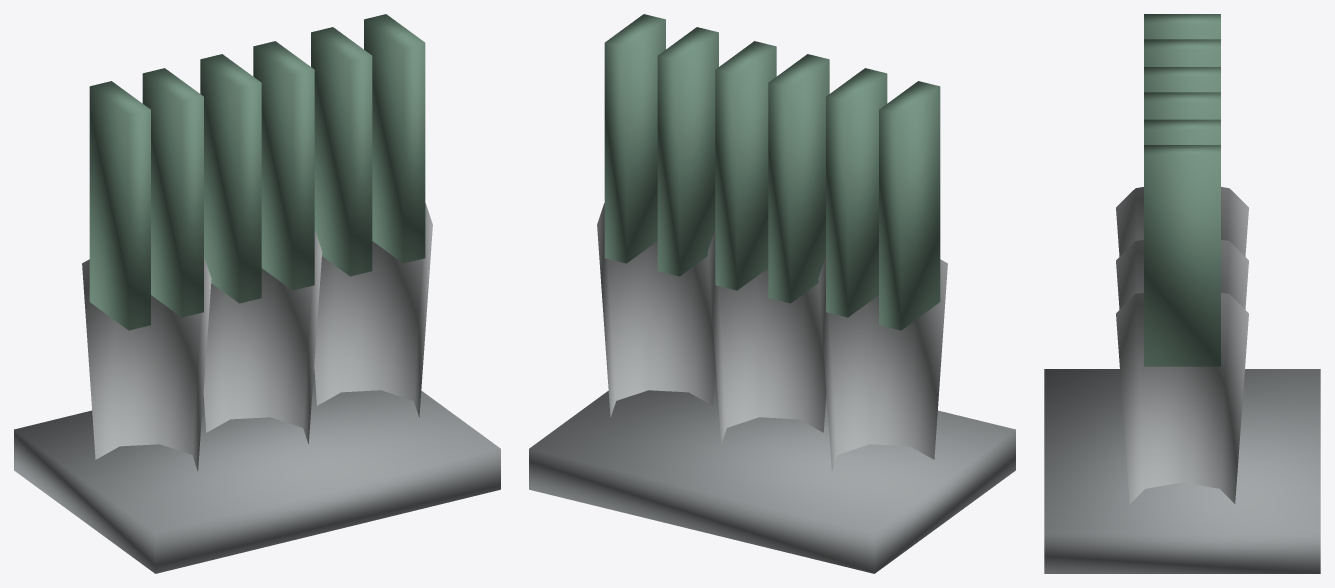
File: standing_floral_display__compact.glb
3 renders of one model, left to right at view 1: azimuth 30°, elevation 25°; view 2: azimuth 150°, elevation 25°; view 3: azimuth 270°, elevation 25°, orthographic. The views are drawn at different scales.
Parts seen in each view (by area): view 1: world; view 2: world; view 3: world.
Boxes of the visible parts, left/top/right/bottom form: world: left=14, top=14, right=500, bottom=573; world: left=529, top=14, right=1015, bottom=573; world: left=1044, top=14, right=1320, bottom=573.
Bounding box in the file's own units: 0.6552 × 0.7533 × 0.4644.
